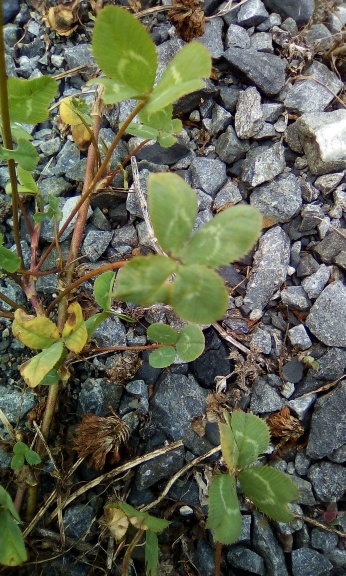4leaf: (115, 170, 263, 327)
